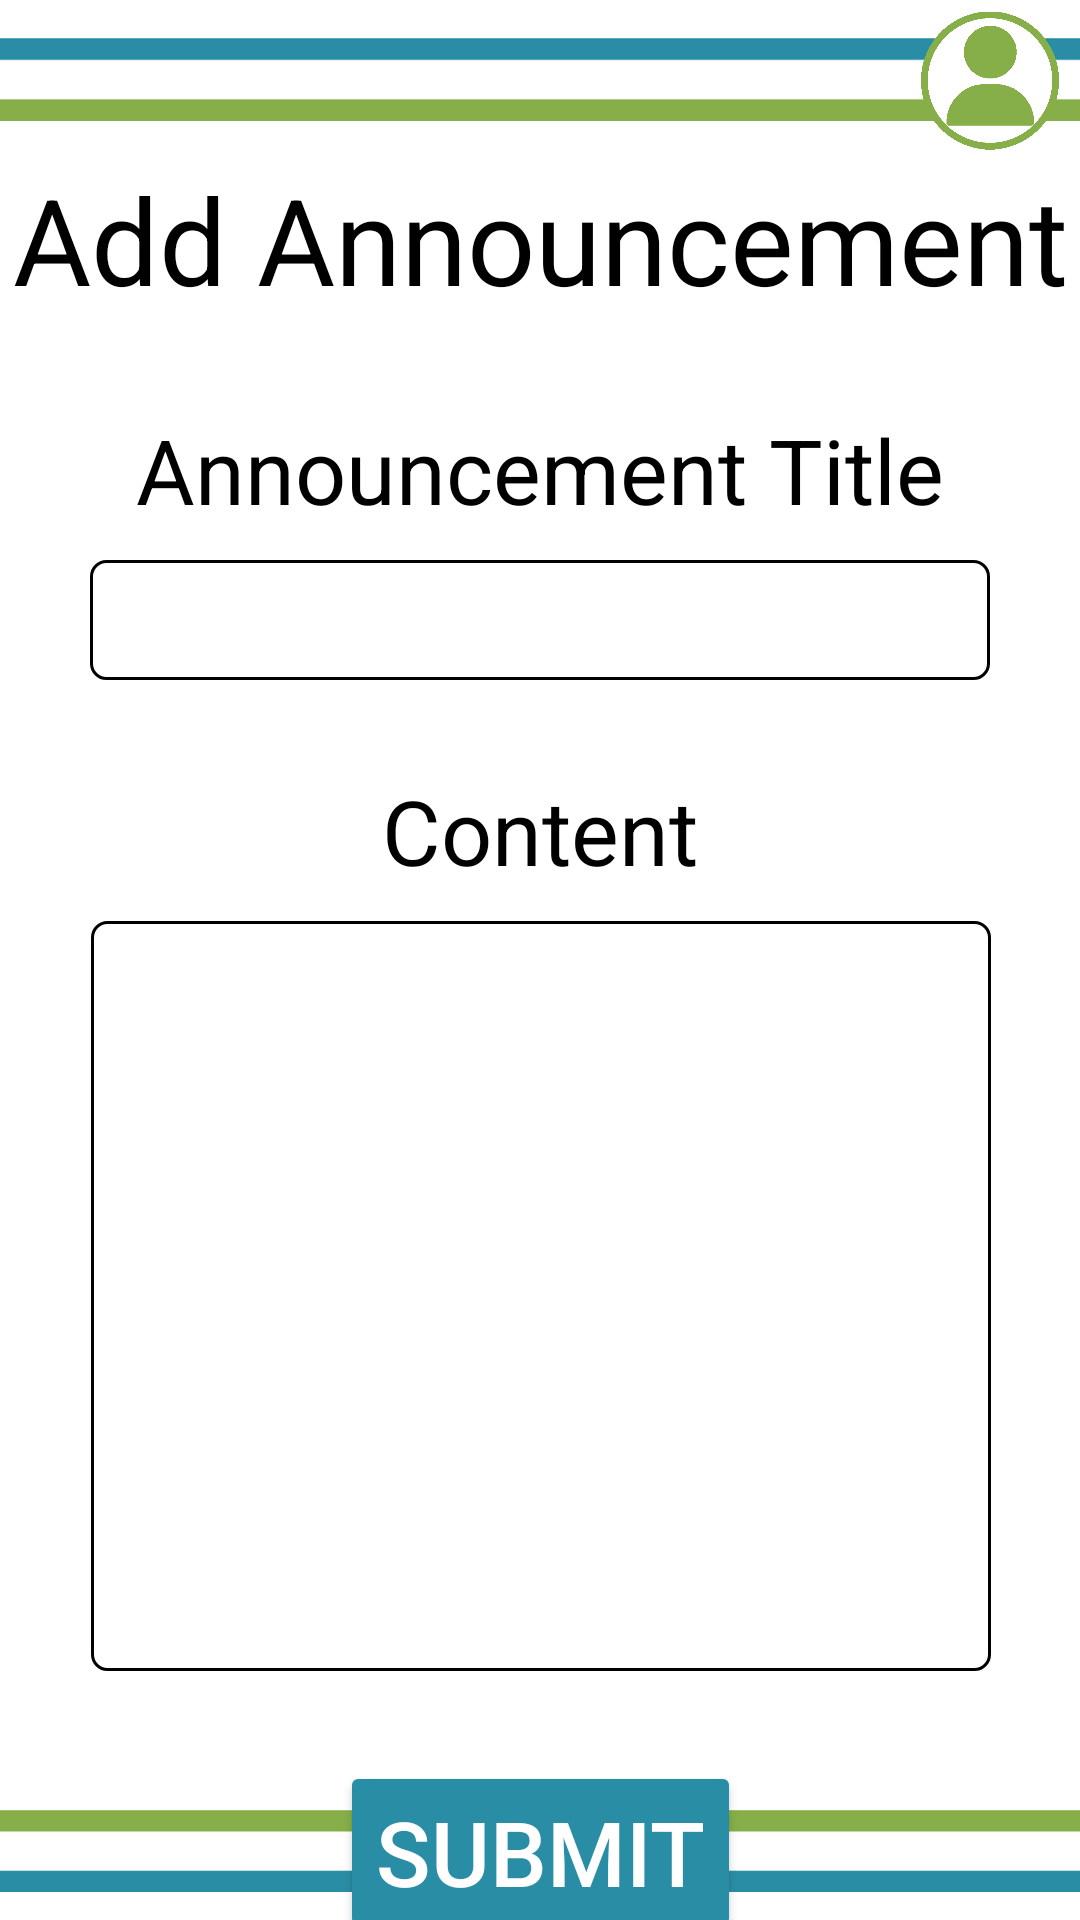

Icons on this 1080px x 1920px Android screen, each with its box as (x1, y1, x2, y2):
user: (921, 12, 1059, 150)
